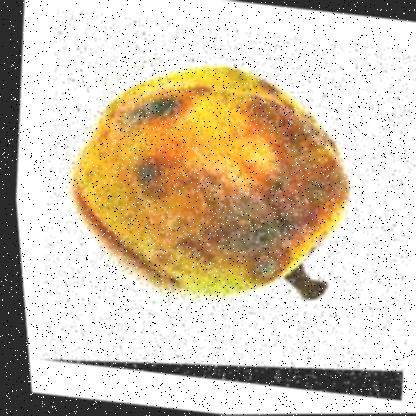capsicum_rotten: (12, 3, 415, 403)
